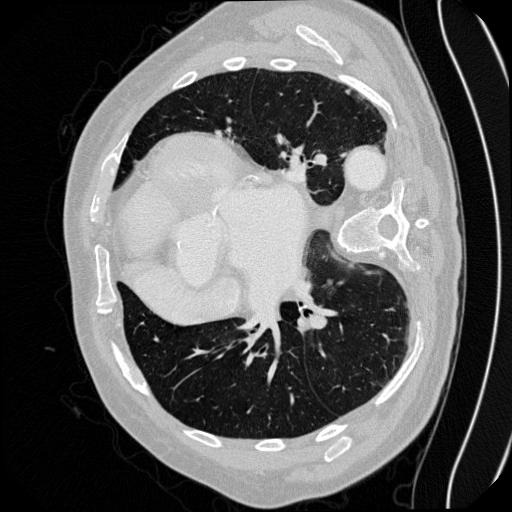nodule: (343, 89, 353, 99)
